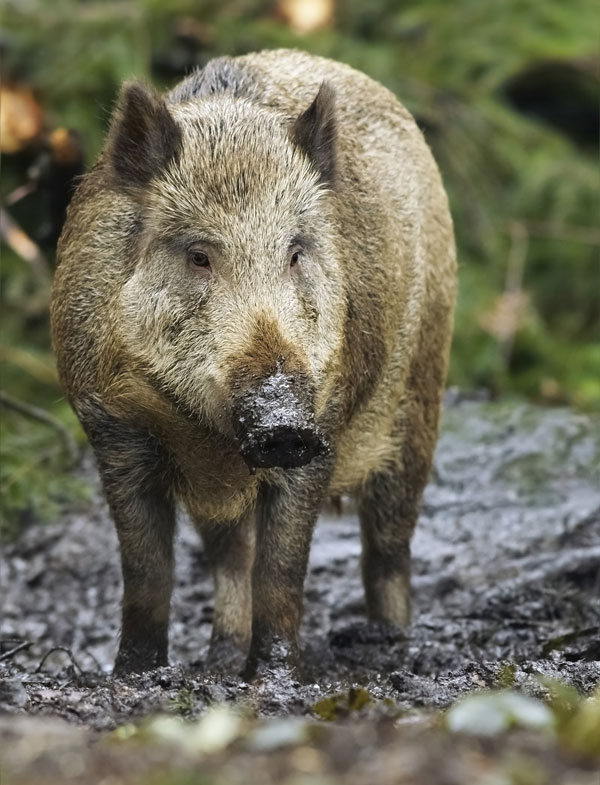boar: (45, 43, 471, 680)
